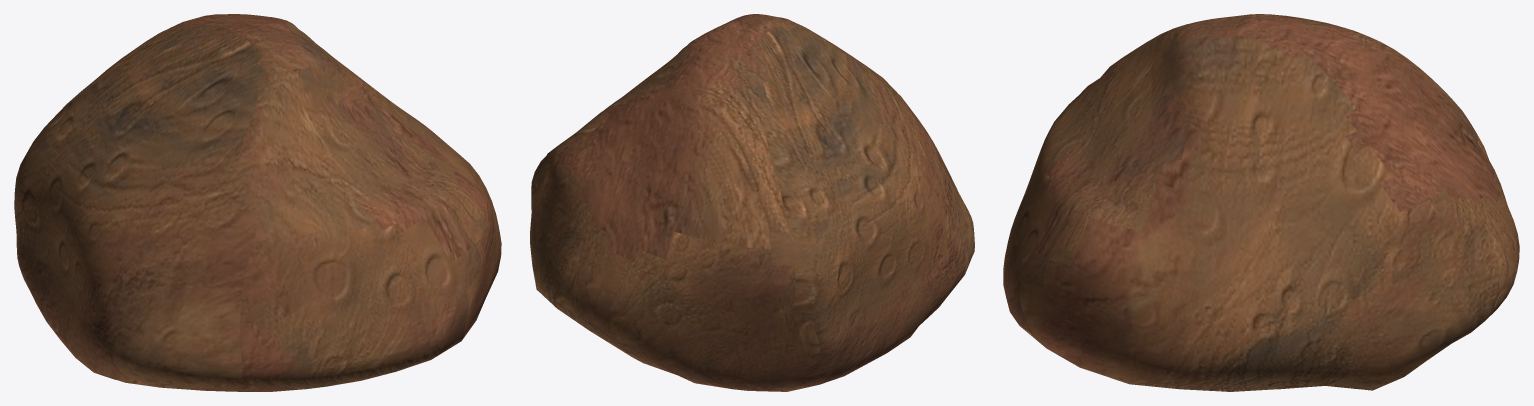
File: MarsRock9.obj
3 views of the same model, side by side, from view 1: azimuth 30°, elevation 25°; view 2: azimuth 150°, elevation 25°; view 3: azimuth 270°, elevation 25° (orthographic). The views are drawn at different scales.
Visible parts, largest first — view 1: Rocks6; view 2: Rocks6; view 3: Rocks6.
Boxes of the visible parts, <box> form: Rocks6: <box>14,14,501,391</box>; Rocks6: <box>530,14,974,391</box>; Rocks6: <box>1003,14,1519,391</box>.
Bounding box in the file's own units: 0.6573 × 0.5087 × 0.6925.
1 material, 1 textured.
